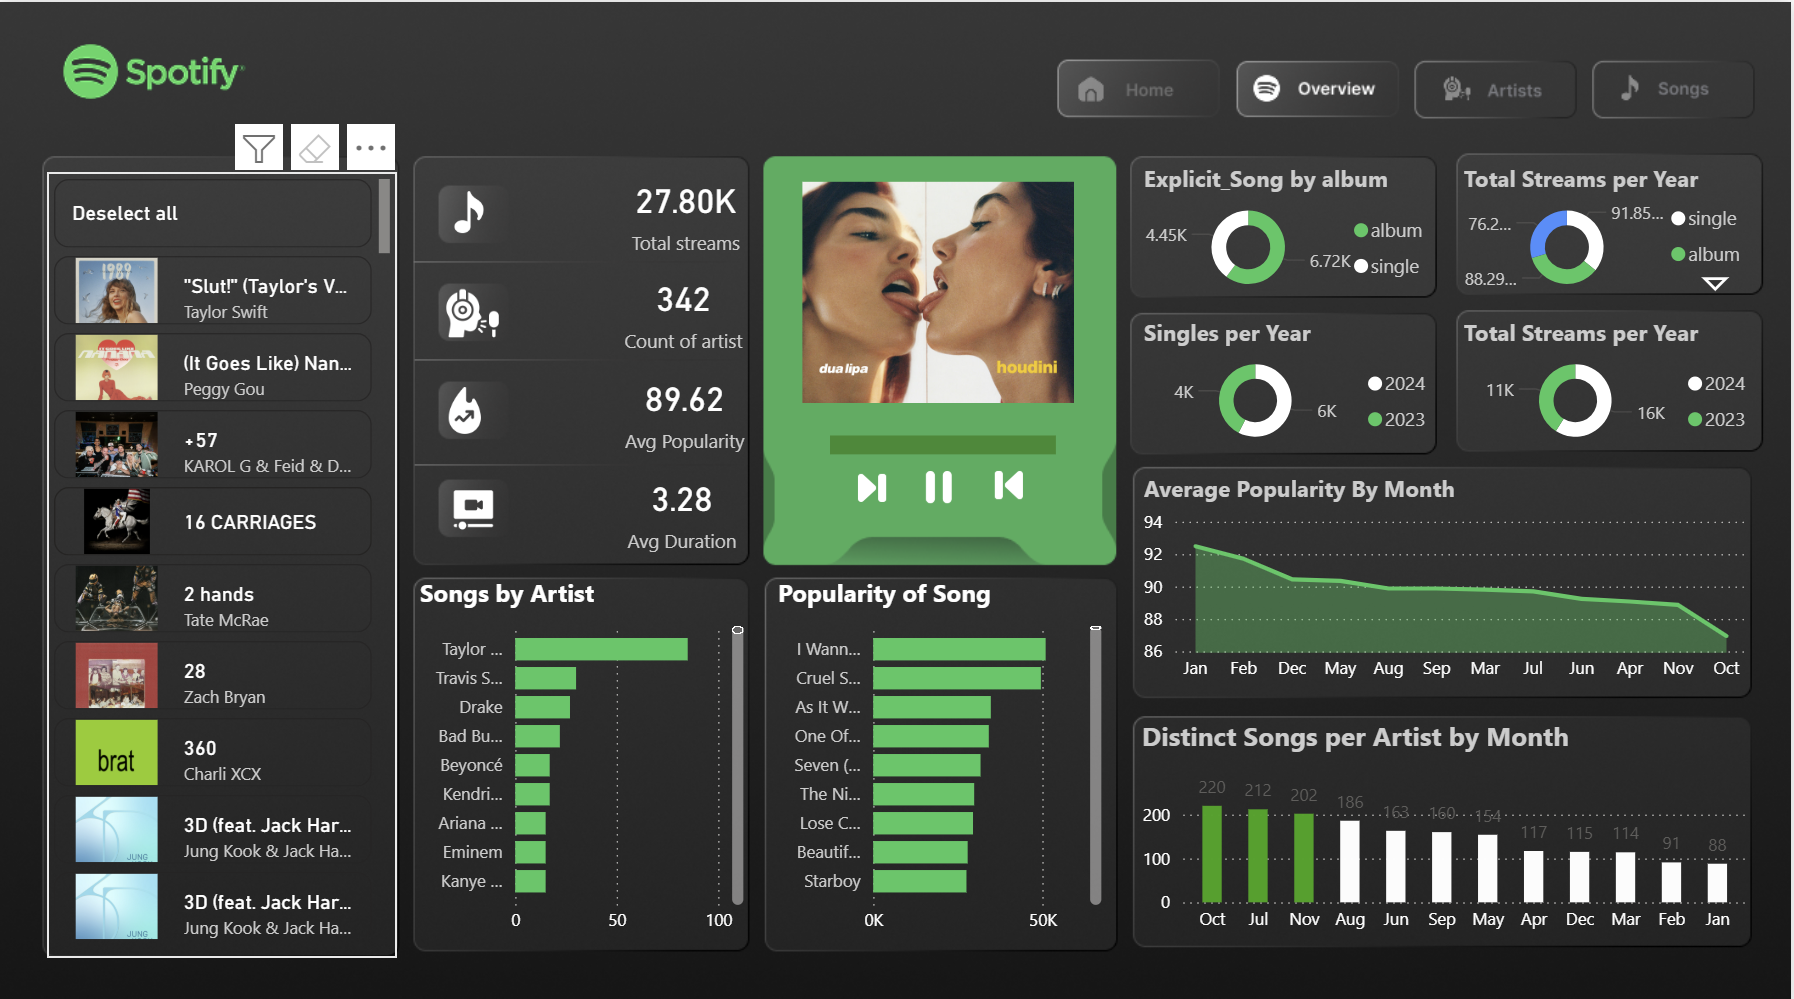

The page's visual inventory and layout, read from the dashboard file:
{"tool":"powerbi","page":{"name":"Page 1","canvas":[1280,720],"ordinal":0},"visuals":[{"type":"barChart","title":"Songs by Artist","fields":{"Category":["Top-50-World.artist"],"Y":["Table.Distinct Songs per Artist"]},"box":[295.8,410.5,241,263.9],"z":0},{"type":"barChart","title":"Popularity of Song","fields":{"Y":["Sum(Top-50-World.popularity)"],"Category":["Top-50-World.song"]},"box":[550.8,410.5,241,263.9],"z":1000},{"type":"areaChart","title":"Average Popularity By Month","fields":{"Y":["Table.AVERAGE_POPULARITY"],"Category":["Top-50-World.Month"]},"box":[813.4,335.3,439.8,158.1],"z":2000},{"type":"donutChart","title":"Explicit_Song by album","fields":{"Category":["Top-50-World.album_type"],"Y":["Table.explicit_Song"]},"box":[813.3,112.2,218.9,101.1],"z":3000},{"type":"donutChart","title":"Singles per Year ","fields":{"Category":["Top-50-World.YEAR"],"Y":["Table.Singles Count"]},"box":[812.2,222.2,220,100],"z":4000},{"type":"donutChart","title":"Total Streams per Year ","fields":{"Category":["Top-50-World.YEAR"],"Y":["Table.TOTAL_STREAMS"]},"box":[1041.1,222.2,220,100],"z":5000},{"type":"donutChart","title":"Total Streams per Year ","fields":{"Category":["Top-50-World.album_type"],"Y":["Table.AVERAGE_POPULARITY"]},"box":[1041.1,112.2,220,101.1],"z":6000},{"type":"columnChart","fields":{"Y":["Table.Distinct Songs per Artist"],"Category":["Top-50-World.Month"]},"box":[811.7,511.7,441.7,161.7],"z":7000},{"type":"card","fields":{"Values":["Table.TOTAL_STREAMS"]},"box":[441.7,111.7,98.3,78.3],"z":8000},{"type":"card","fields":{"Values":["Count(Top-50-World.artist)"]},"box":[441.7,181.7,95,78.3],"z":9000},{"type":"card","fields":{"Values":["Table.AVERAGE_POPULARITY"]},"box":[441.7,253.3,96.7,78.3],"z":10000},{"type":"card","fields":{"Values":["Table.Avg Duration (Min)"]},"box":[438.5,323.8,98.5,78.5],"z":11000},{"type":"image","box":[309.4,198.8,56.9,47.5],"z":12000},{"type":"image","box":[315.6,270,44.4,43.3],"z":13000},{"type":"image","box":[315.6,128.9,40,43.3],"z":14000},{"type":"image","box":[316.7,340,43.3,45.6],"z":15000},{"type":"advancedSlicerVisual","fields":{"Values":["Top-50-World.song"]},"box":[33.8,121.5,250,561.5],"z":16000},{"type":"cardVisual","fields":{"Data":["Min(Top-50-World.album_cover_url)"]},"box":[552.9,111.4,240,180],"z":17000},{"type":"barChart","fields":{"Y":["Table.AVERAGE_POPULARITY","Sum(Top-50-World.popularity)"]},"box":[588.6,278.6,204.3,68.6],"z":18000},{"type":"image","box":[607.1,328.6,32.9,37.1],"z":19000},{"type":"image","box":[654.3,330,34.3,32.9],"z":20000},{"type":"image","box":[704.3,328.6,34.3,32.9],"z":21000}]}

Visuals, with their boxes in screenshot pixels (x1, y1, x2, y2), scaled from the page's 1280x720 canvas onto the 1794x999 screenshot:
"Songs by Artist" barChart: l=415, t=570, r=752, b=936
"Popularity of Song" barChart: l=772, t=570, r=1110, b=936
"Average Popularity By Month" areaChart: l=1140, t=465, r=1756, b=685
"Explicit_Song by album" donutChart: l=1140, t=156, r=1447, b=296
"Singles per Year " donutChart: l=1138, t=308, r=1447, b=447
"Total Streams per Year " donutChart: l=1459, t=308, r=1768, b=447
"Total Streams per Year " donutChart: l=1459, t=156, r=1768, b=296
columnChart - Table.Distinct Songs per Artist x Top-50-World.Month: l=1138, t=710, r=1757, b=934
card - Table.TOTAL_STREAMS: l=619, t=155, r=757, b=264
card - Count(Top-50-World.artist): l=619, t=252, r=752, b=361
card - Table.AVERAGE_POPULARITY: l=619, t=351, r=755, b=460
card - Table.Avg Duration (Min): l=615, t=449, r=753, b=558
image: l=434, t=276, r=513, b=342
image: l=442, t=375, r=505, b=435
image: l=442, t=179, r=498, b=239
image: l=444, t=472, r=505, b=535
advancedSlicerVisual - Top-50-World.song: l=47, t=169, r=398, b=948
cardVisual - Min(Top-50-World.album_cover_url): l=775, t=155, r=1111, b=404
barChart - Table.AVERAGE_POPULARITY x Sum(Top-50-World.popularity): l=825, t=387, r=1111, b=482
image: l=851, t=456, r=897, b=507
image: l=917, t=458, r=965, b=504
image: l=987, t=456, r=1035, b=502
